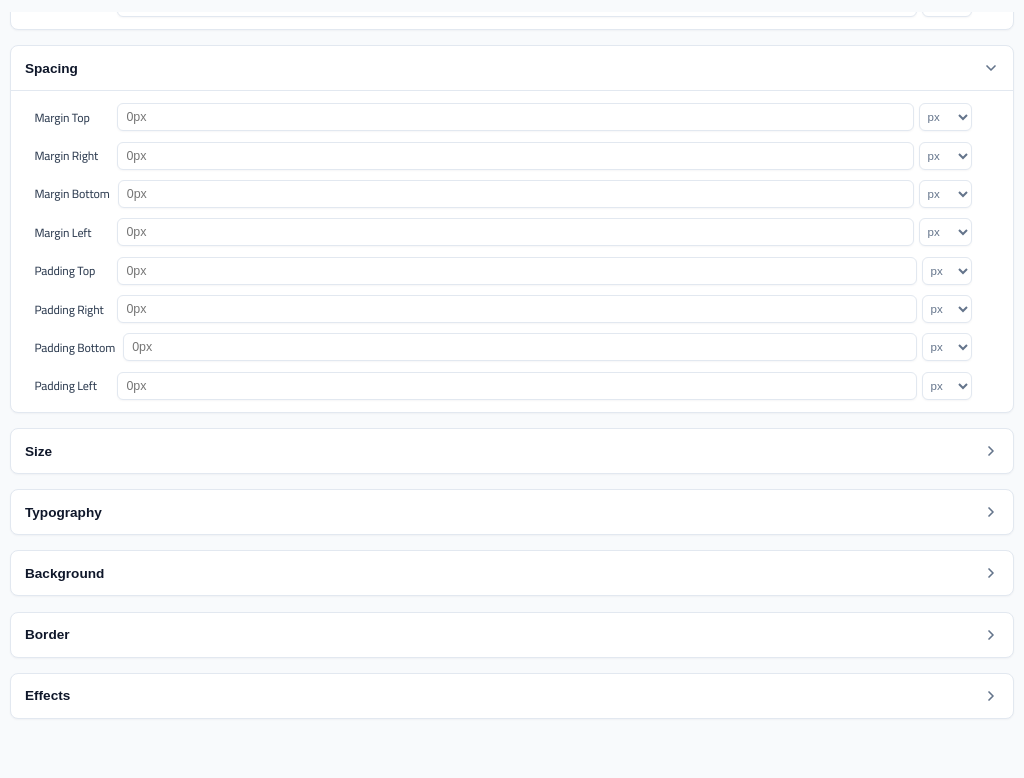
Test: StyleSectors Component Reactivity & Controls › converts rgb or 3-digit hex to valid hex in the color picker
(page scrolled)
Click the button with test id "sector-header-typography" at (63, 512), box [11,490,1013,534]
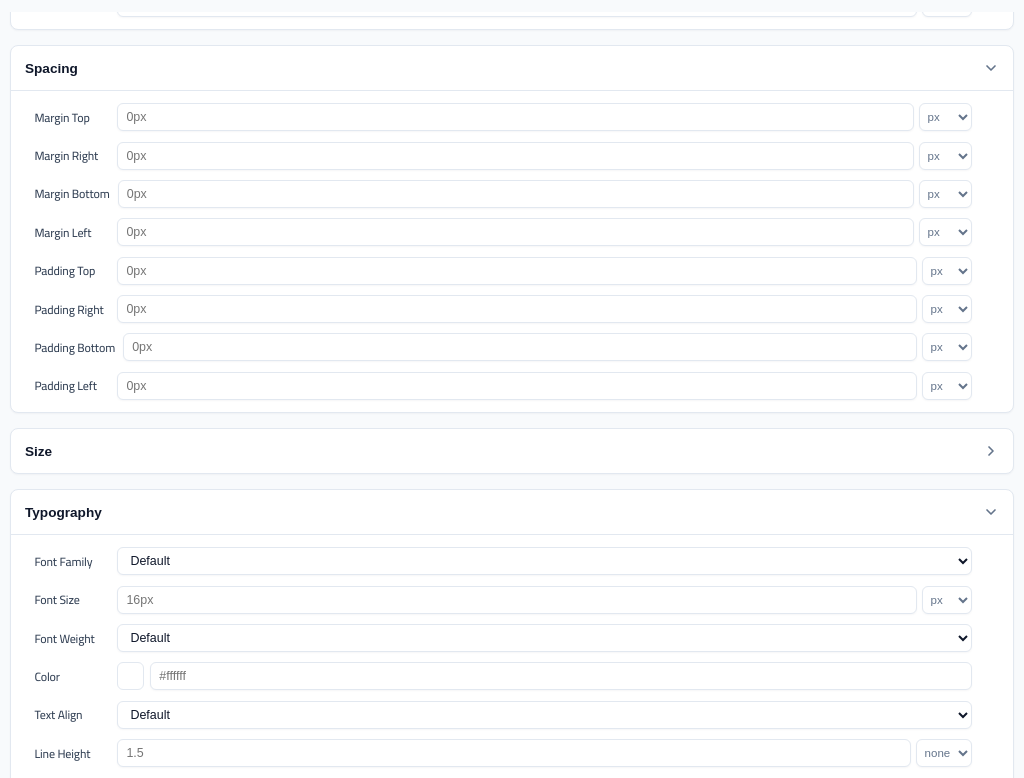
# Type 3-digit hex
Type "#fff" into the field with test id "style-input-color" at (561, 676), box [150,662,972,690]
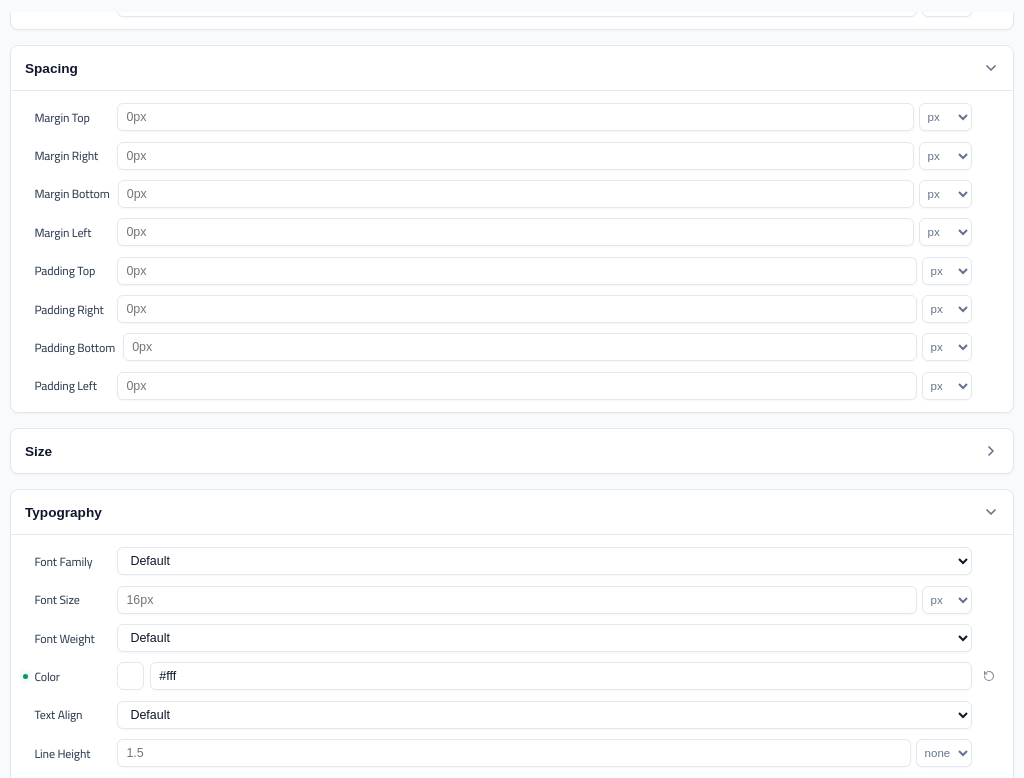
Expected: the colour field with test id "style-color-picker-color" holds "#ffffff", [117,662,144,690]
# Type rgb
Replace the text in the field with test id "style-input-color" with "rgb(255, 0, 0)" at (561, 676), box [150,662,972,690]
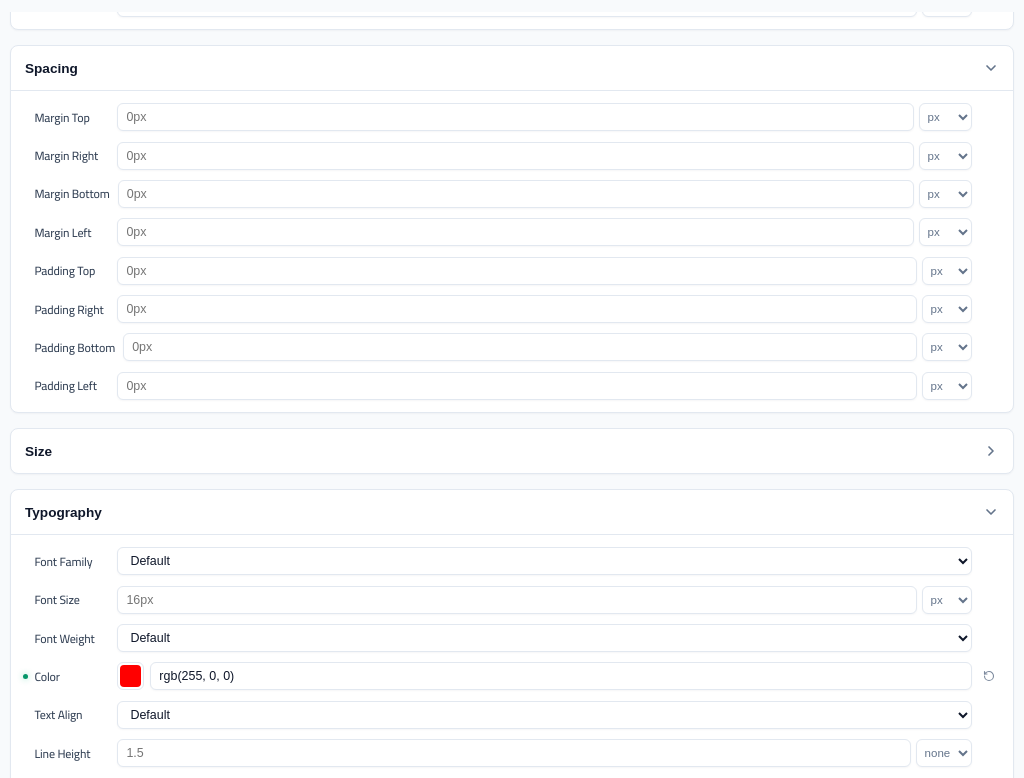
Expected: the colour field with test id "style-color-picker-color" holds "#ff0000", [117,662,144,690]
